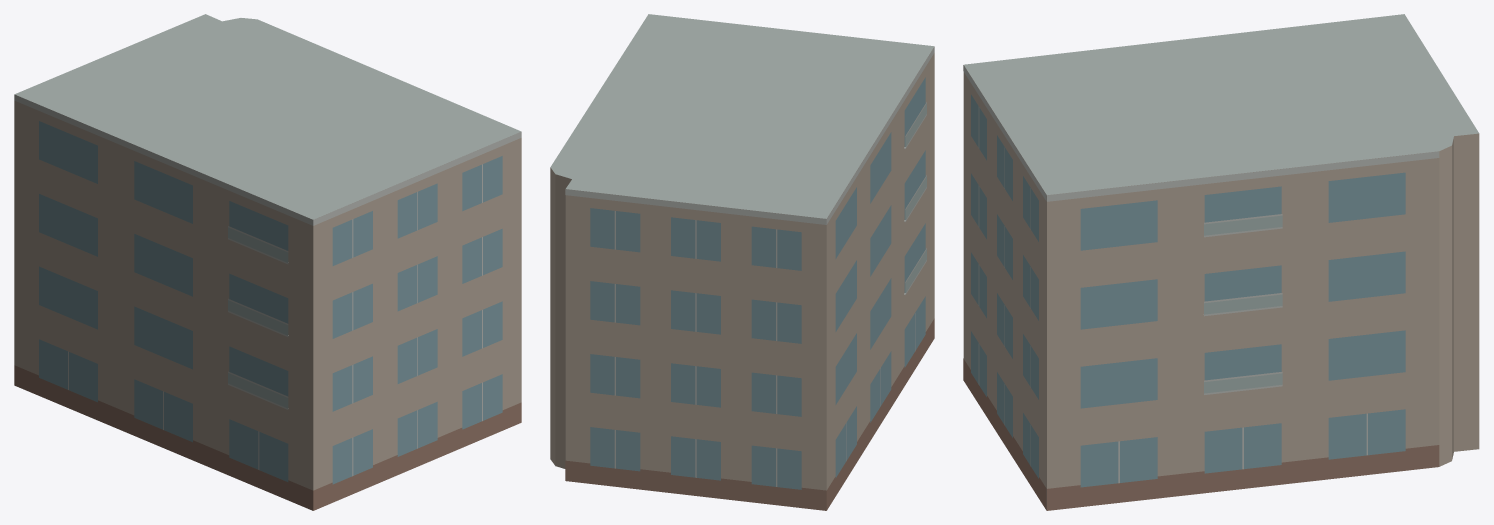
File: survey-upis-32621308.glb
3 renders of one model, left to right at view 1: azimuth 30°, elevation 25°; view 2: azimuth 150°, elevation 25°; view 3: azimuth 270°, elevation 25°, orthographic. The views are drawn at different scales.
Parts seen in each view (by area): view 1: survey-upis-32621308.tmp; view 2: survey-upis-32621308.tmp; view 3: survey-upis-32621308.tmp.
Boxes of the visible parts, x1,y1,x2,y2 form: survey-upis-32621308.tmp: [14, 14, 521, 510]; survey-upis-32621308.tmp: [550, 14, 934, 510]; survey-upis-32621308.tmp: [963, 14, 1479, 510].
Size of the model in its own units: 14.29 by 11.6 by 17.19.
